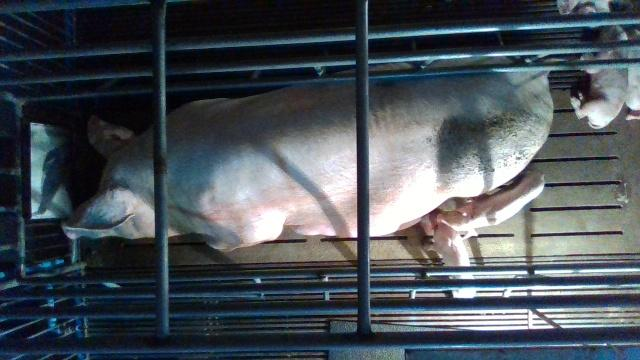piglet: (439, 170, 545, 238), (571, 25, 628, 131), (422, 214, 478, 298), (626, 28, 640, 122), (555, 0, 614, 15)
sow-sit: (60, 57, 554, 252)
